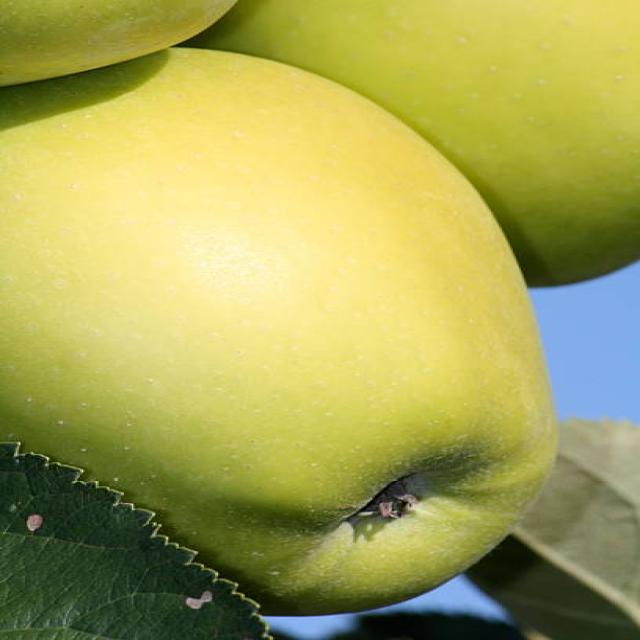Unripe: (0, 48, 558, 620)
